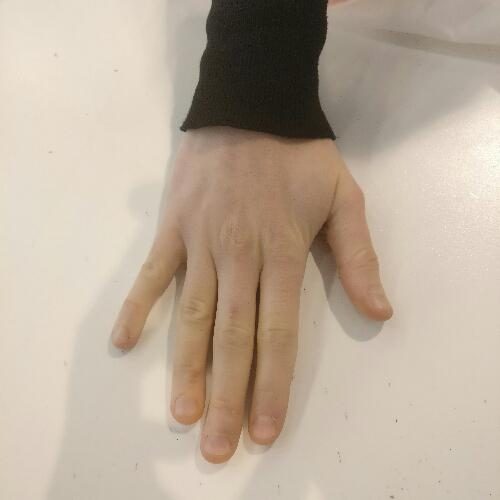paper: (108, 106, 398, 470)
